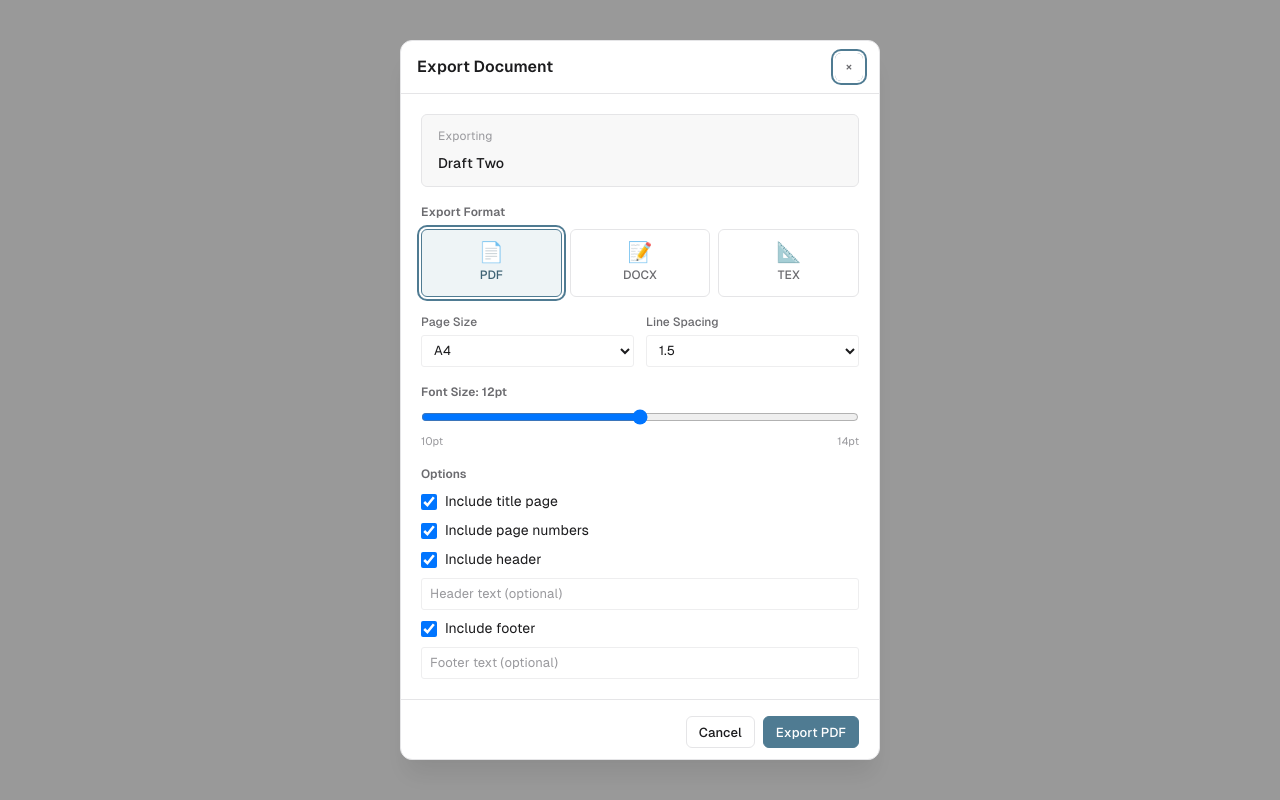
Test case: ExportPanel › shows an error when export fails
This screenshot has width=1280, height=800.
Step 1. Click the button "Export PDF" → click(811, 732), box [763, 716, 859, 748]
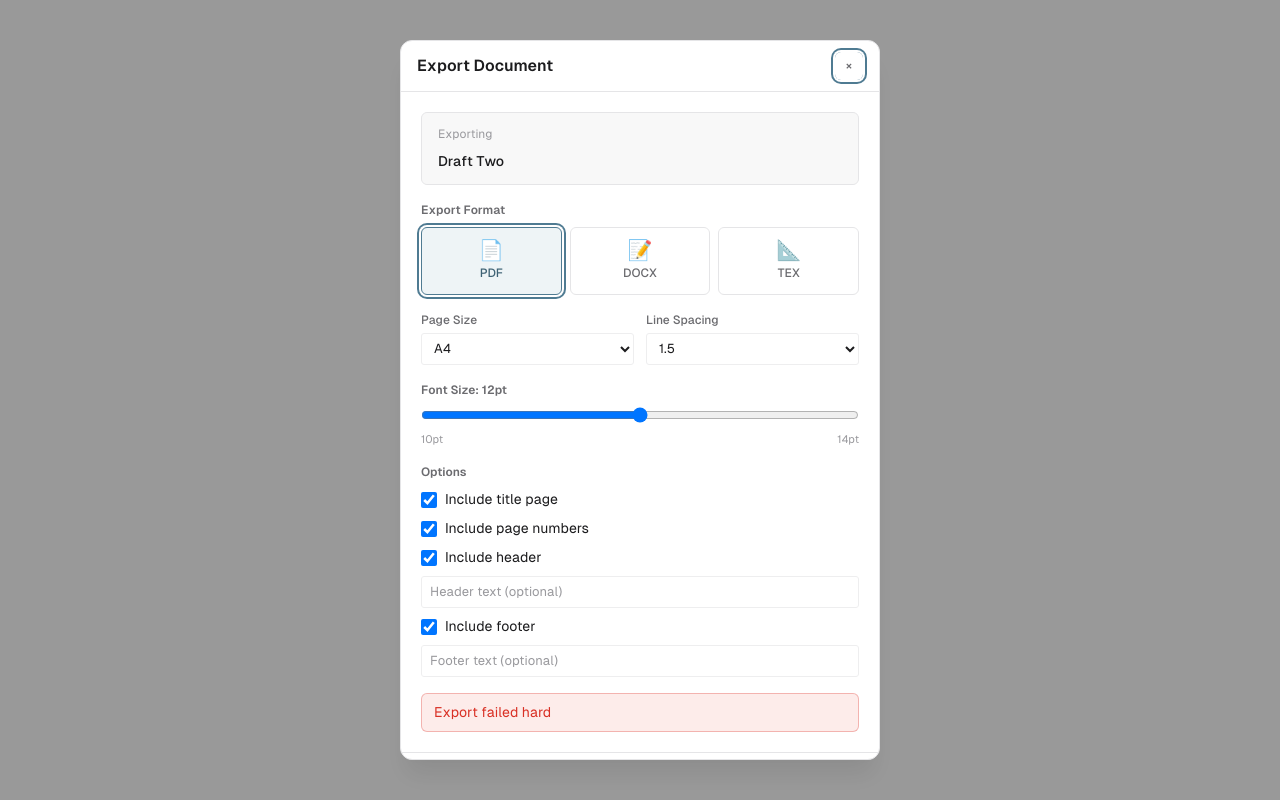
Expected: the text "Export failed hard" is shown, [421, 693, 859, 732]
Expected: the message reads "Export failed hard", [434, 704, 551, 720]
